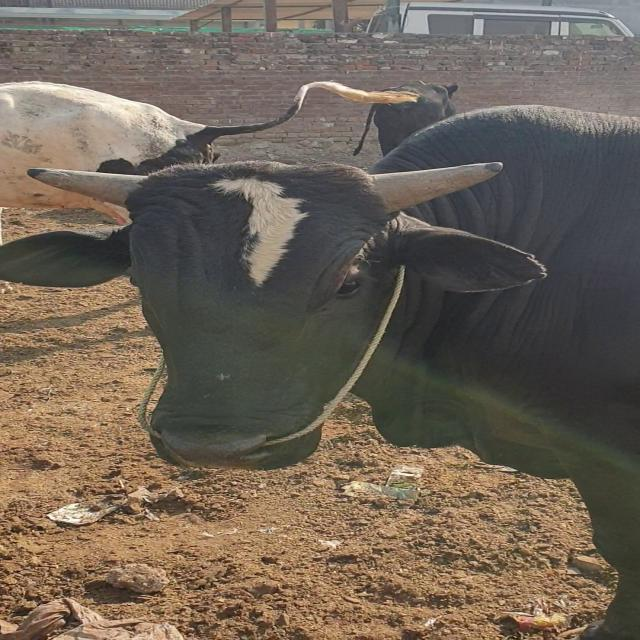cowFace: (127, 167, 387, 471)
